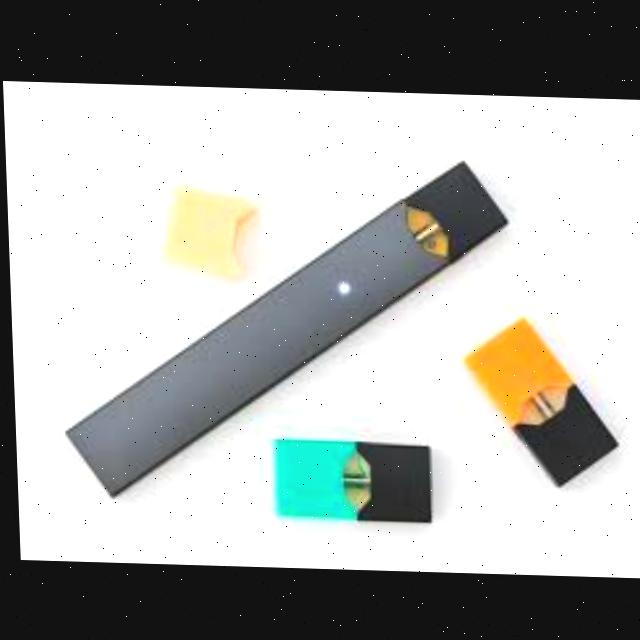vape: (51, 141, 519, 504)
